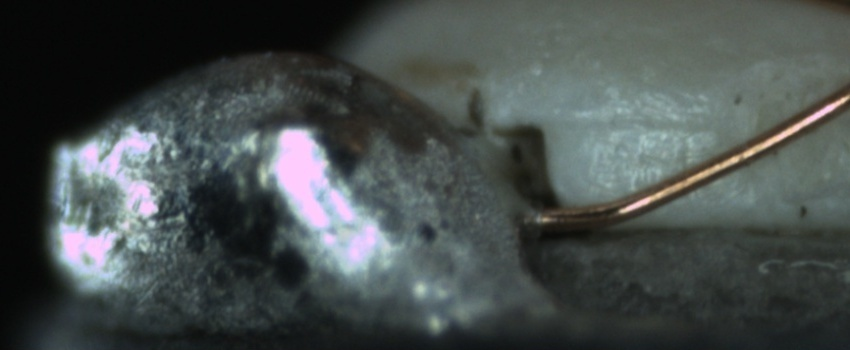DL: (567, 85, 711, 155)
